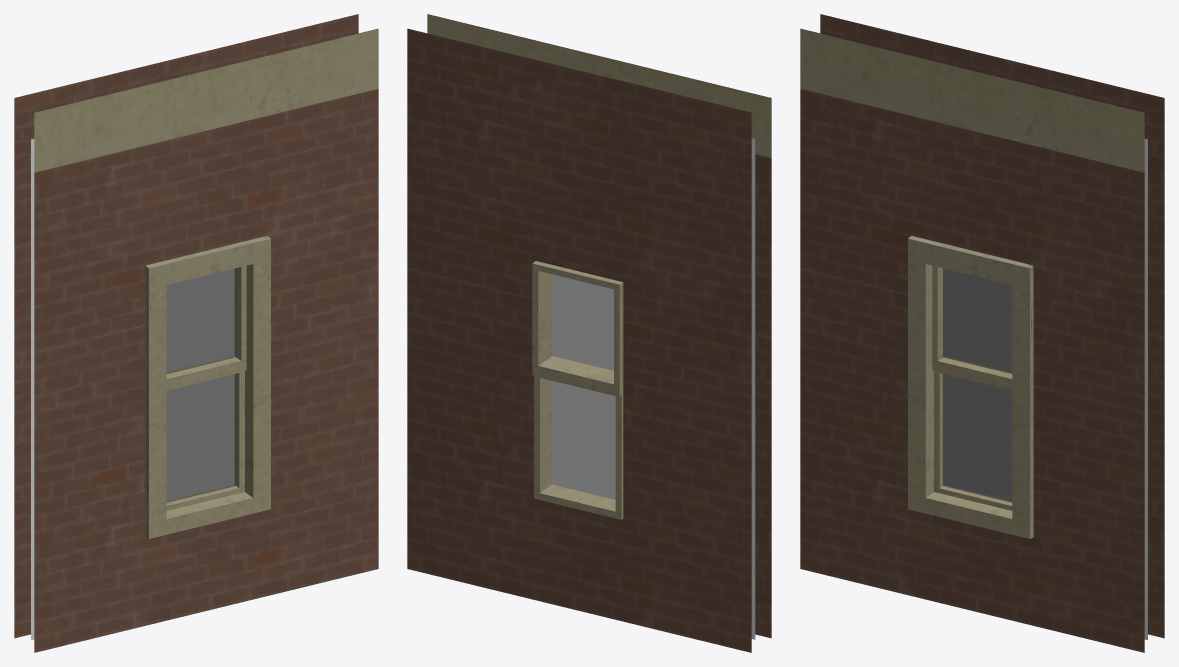
The model's file is brick_window_square_single.glb.
3 renders of one model, left to right at view 1: azimuth 30°, elevation 25°; view 2: azimuth 150°, elevation 25°; view 3: azimuth 330°, elevation 25°, orthographic.
Visible parts, largest first — view 1: Brick_Window_Square_Single; view 2: Brick_Window_Square_Single; view 3: Brick_Window_Square_Single.
Boxes of the visible parts, left/top/right/bottom form: Brick_Window_Square_Single: left=14, top=14, right=378, bottom=652; Brick_Window_Square_Single: left=407, top=14, right=771, bottom=652; Brick_Window_Square_Single: left=800, top=14, right=1164, bottom=652.
Size of the model in its own units: 2 by 3 by 0.271.
5 materials, 3 textured.
